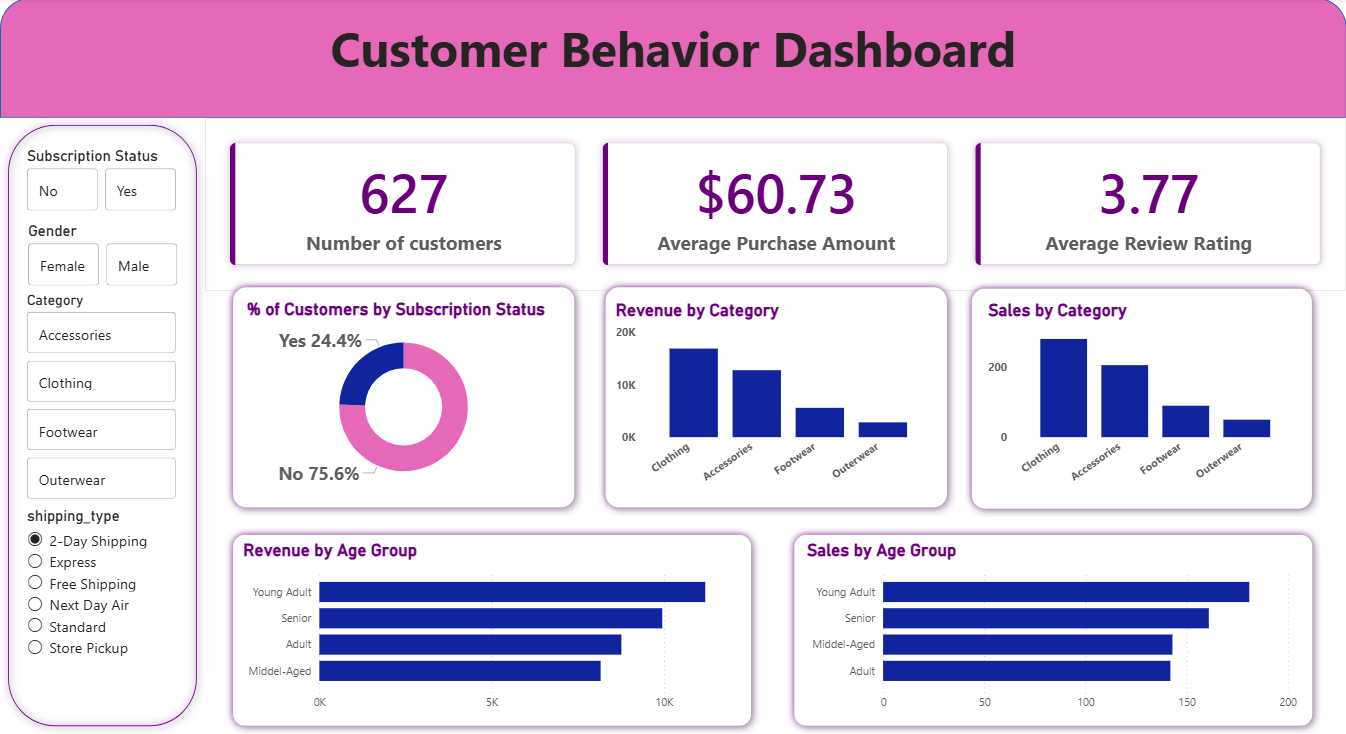

This screenshot's page, from the dashboard's own definition file:
{"tool":"powerbi","page":{"name":"Page 1","canvas":[1500,820],"ordinal":0},"visuals":[{"type":"cardVisual","fields":{"Data":["public customer.Number of customers","public customer.Average Purchase Amount","public customer.Average Review Rating"]},"box":[228.4,133.7,1271.5,192.2],"z":0},{"type":"shape","box":[0,0,1500.3,133.5],"z":1000},{"type":"textbox","box":[0,14.5,1500.3,119],"z":2000},{"type":"shape","box":[250.7,313.4,398.3,263.2],"z":3000},{"type":"shape","box":[0,132.1,228.3,688],"z":4000},{"type":"shape","box":[665.7,313.4,398.3,263.2],"z":5000},{"type":"clusteredColumnChart","title":"Revenue by Category","fields":{"Y":["Sum(public customer.purchase_amount)"],"Category":["public customer.category"]},"box":[681.5,337.5,365.2,218.5],"z":6000},{"type":"shape","box":[1073.7,314.7,396.9,263.2],"z":7000},{"type":"clusteredColumnChart","title":"Sales by Category","fields":{"Y":["CountNonNull(public customer.customer_id)"],"Category":["public customer.category"]},"box":[1095.7,337.5,353.8,218.5],"z":8000},{"type":"advancedSlicerVisual","title":"Category","fields":{"Values":["public customer.category"]},"box":[25.1,327.3,176.9,239.5],"z":9000},{"type":"listSlicer","fields":{"Values":["public customer.shipping_type"]},"box":[25.1,566.8,176.9,221.4],"z":10000},{"type":"shape","box":[250.5,589.6,595.2,230.8],"z":11000},{"type":"clusteredBarChart","title":"Revenue by Age Group","fields":{"Y":["Sum(public customer.purchase_amount)"],"Category":["public customer.age_group"]},"box":[265.9,605.1,565.7,198.4],"z":12000},{"type":"shape","box":[876.6,589.6,595.2,230.8],"z":13000},{"type":"clusteredBarChart","title":"Sales by Age Group","fields":{"Y":["CountNonNull(public customer.customer_id)"],"Category":["public customer.age_group"]},"box":[893.5,605.1,555.8,198.4],"z":14000},{"type":"advancedSlicerVisual","fields":{"Values":["public customer.subscription_status"]},"box":[25.1,165.7,176.9,76.6],"z":15000},{"type":"advancedSlicerVisual","fields":{"Values":["public customer.gender"]},"box":[26.5,249.3,176.9,76.6],"z":16000},{"type":"donutChart","title":"% of Customers by Subscription Status","fields":{"Category":["public customer.subscription_status"],"Y":["CountNonNull(public customer.customer_id)"]},"box":[270.2,335.6,359.3,218.6],"z":17000}]}

Visuals, with their boxes in screenshot pixels (x1, y1, x2, y2), scaled from the page's 1500x820 canvas onto the 1346x734 screenshot:
cardVisual - public customer.Number of customers x public customer.Average Purchase Amount: bbox=[205, 120, 1345, 292]
shape: bbox=[0, 0, 1345, 119]
textbox: bbox=[0, 13, 1345, 119]
shape: bbox=[225, 281, 582, 516]
shape: bbox=[0, 118, 205, 733]
shape: bbox=[597, 281, 955, 516]
"Revenue by Category" clusteredColumnChart: bbox=[612, 302, 939, 498]
shape: bbox=[963, 282, 1320, 517]
"Sales by Category" clusteredColumnChart: bbox=[983, 302, 1301, 498]
"Category" advancedSlicerVisual: bbox=[23, 293, 181, 507]
listSlicer - public customer.shipping_type: bbox=[23, 507, 181, 706]
shape: bbox=[225, 528, 759, 733]
"Revenue by Age Group" clusteredBarChart: bbox=[239, 542, 746, 719]
shape: bbox=[787, 528, 1321, 733]
"Sales by Age Group" clusteredBarChart: bbox=[802, 542, 1301, 719]
advancedSlicerVisual - public customer.subscription_status: bbox=[23, 148, 181, 217]
advancedSlicerVisual - public customer.gender: bbox=[24, 223, 183, 292]
"% of Customers by Subscription Status" donutChart: bbox=[242, 300, 565, 496]
